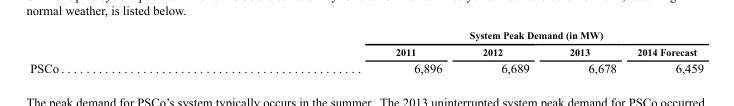table: (29, 29, 703, 74)
table column: (226, 29, 461, 74), (29, 29, 226, 74), (461, 29, 548, 74), (548, 29, 626, 74), (626, 29, 703, 74)
table column header: (29, 29, 703, 58)
table row: (29, 58, 703, 74), (29, 43, 703, 58), (29, 29, 703, 43)
table spanning cell: (226, 29, 703, 43)
